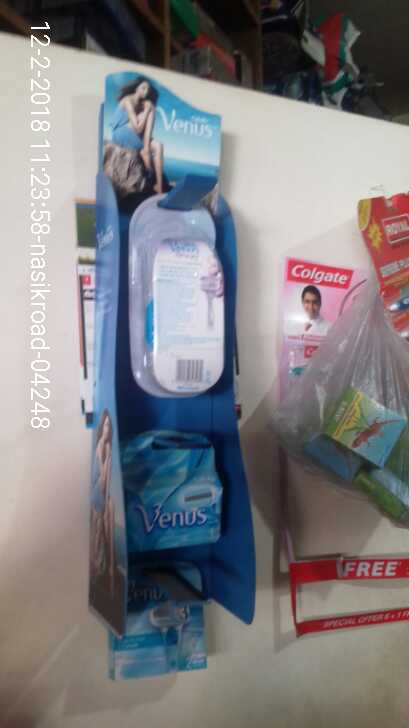venus: (104, 553, 213, 685), (125, 424, 214, 540)
